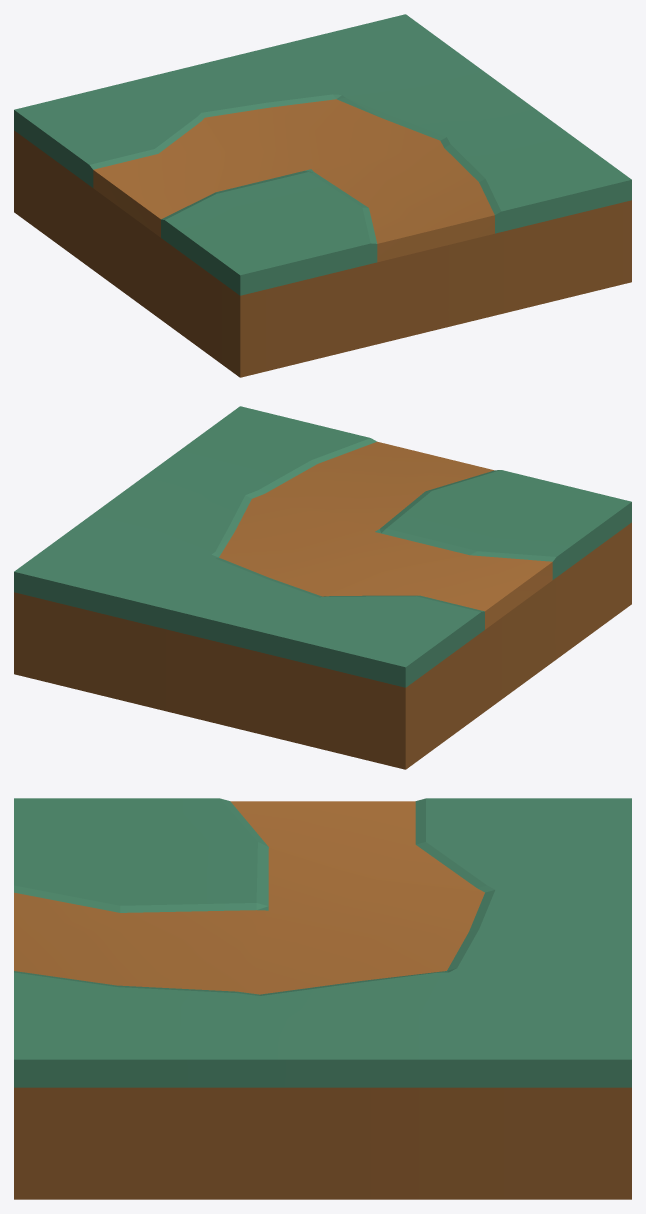
File: Ground_Trail_02.fbx
3 views of the same model, one above another, from view 1: azimuth 30°, elevation 25°; view 2: azimuth 150°, elevation 25°; view 3: azimuth 270°, elevation 25° (orthographic). The views are drawn at different scales.
Visible parts, largest first — view 1: Ground_Trail_02; view 2: Ground_Trail_02; view 3: Ground_Trail_02.
Part boxes in pixels (box(x1,y1,x2,y2)): Ground_Trail_02: box(14, 14, 631, 377); Ground_Trail_02: box(14, 406, 631, 769); Ground_Trail_02: box(14, 798, 631, 1199).
Bounding box in the file's own units: 40 × 10 × 40.
